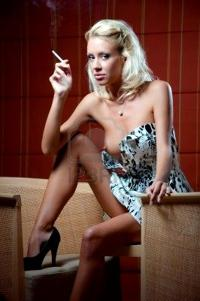person: (23, 15, 194, 301)
